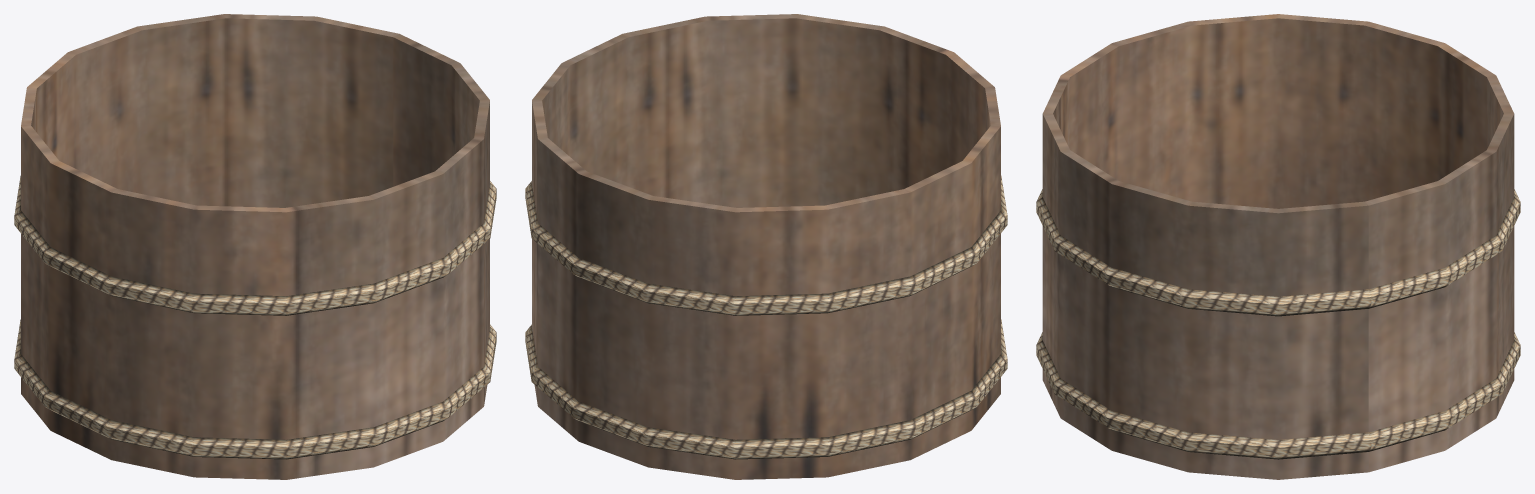
The model's file is jov_vat02.fbx.
3 renders of one model, left to right at view 1: azimuth 30°, elevation 25°; view 2: azimuth 150°, elevation 25°; view 3: azimuth 270°, elevation 25°, orthographic.
Parts seen in each view (by area): view 1: jov_vat02; view 2: jov_vat02; view 3: jov_vat02.
Part boxes in pixels (bbox=[...]): jov_vat02: bbox=[14, 14, 496, 479]; jov_vat02: bbox=[525, 14, 1007, 479]; jov_vat02: bbox=[1036, 14, 1520, 479].
Bounding box in the file's own units: 51 × 30.98 × 51.
